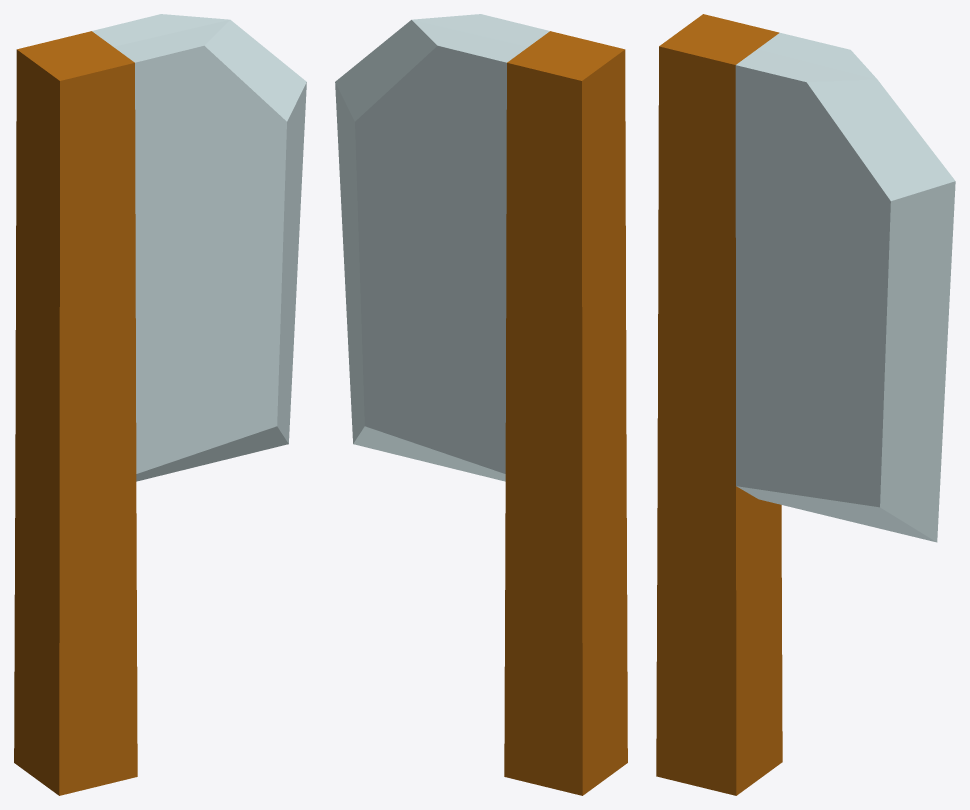
File: knife.gltf
3 renders of one model, left to right at view 1: azimuth 30°, elevation 25°; view 2: azimuth 150°, elevation 25°; view 3: azimuth 330°, elevation 25°, orthographic. The views are drawn at different scales.
Visible parts, largest first — view 1: Cube; view 2: Cube; view 3: Cube.
Boxes of the visible parts, bbox=[...] form: Cube: bbox=[14, 14, 306, 795]; Cube: bbox=[335, 14, 627, 795]; Cube: bbox=[656, 14, 955, 795].
Bounding box in the file's own units: 1.52 × 3.83 × 0.4395.
